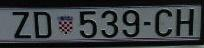-: (142, 21, 152, 26)
3: (101, 10, 119, 38)
5: (78, 11, 97, 37)
9: (122, 10, 140, 38)
C: (155, 9, 173, 37)
D: (33, 12, 52, 39)
H: (176, 8, 194, 36)
Z: (12, 10, 32, 38)
